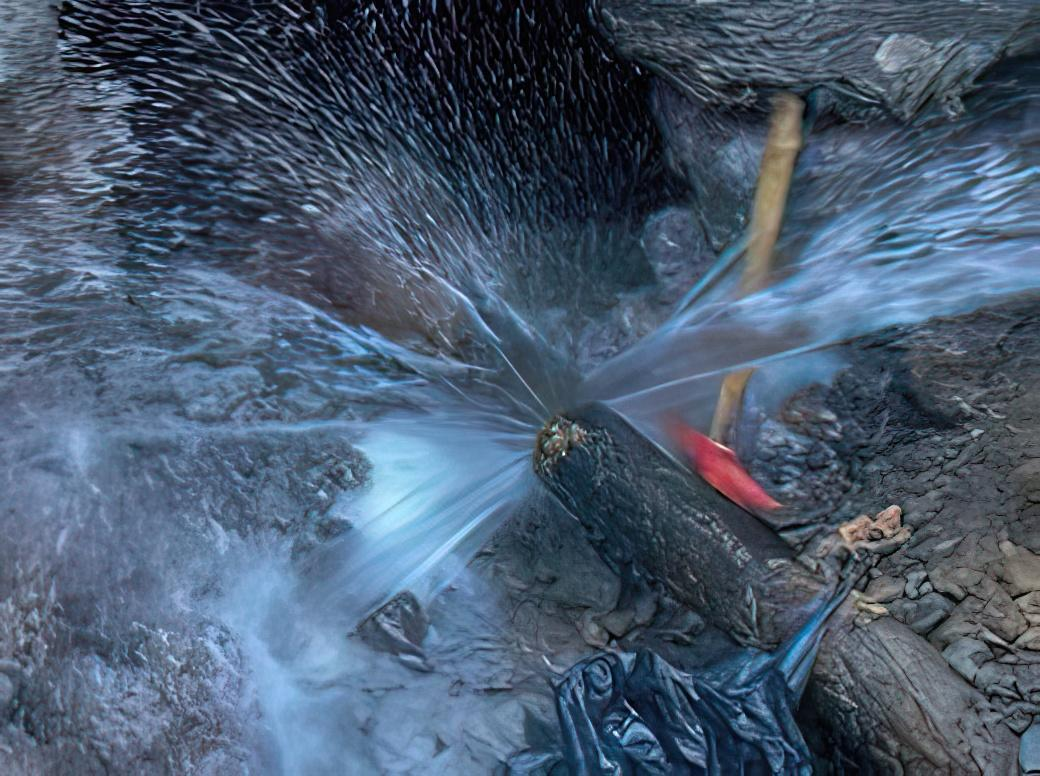pipe burst: (0, 0, 1040, 674)
